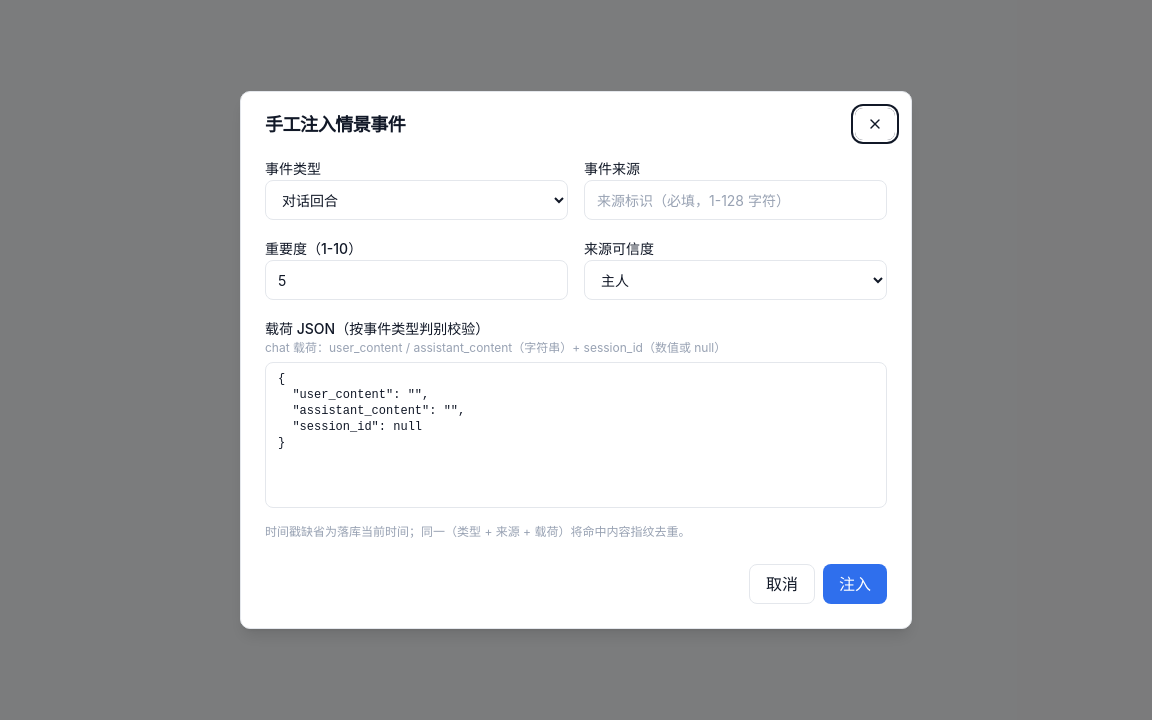
it: EpisodeInjectDialog › 默认表单：kind=chat + 载荷模板；kind 切换换骨架
Later steps or results of the test are not shown.
Select "值班任务" in the dropdown labelled "事件类型". click: [416, 200]
box: [265,180,568,220]
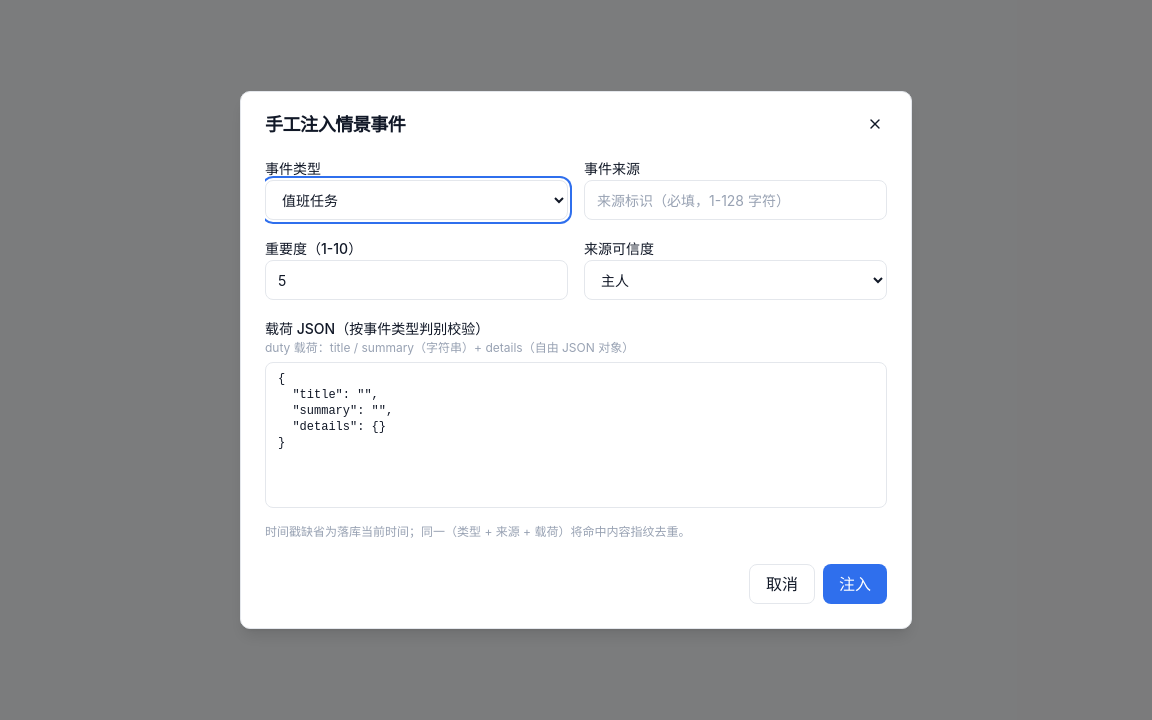
Result: the text "duty 载荷：title / summary（字符串）+ details（自由 JSON 对象）" is shown at [265,340,634,355]
